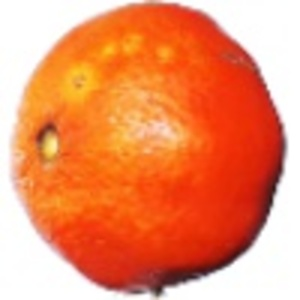tangerina: (8, 1, 288, 300)
